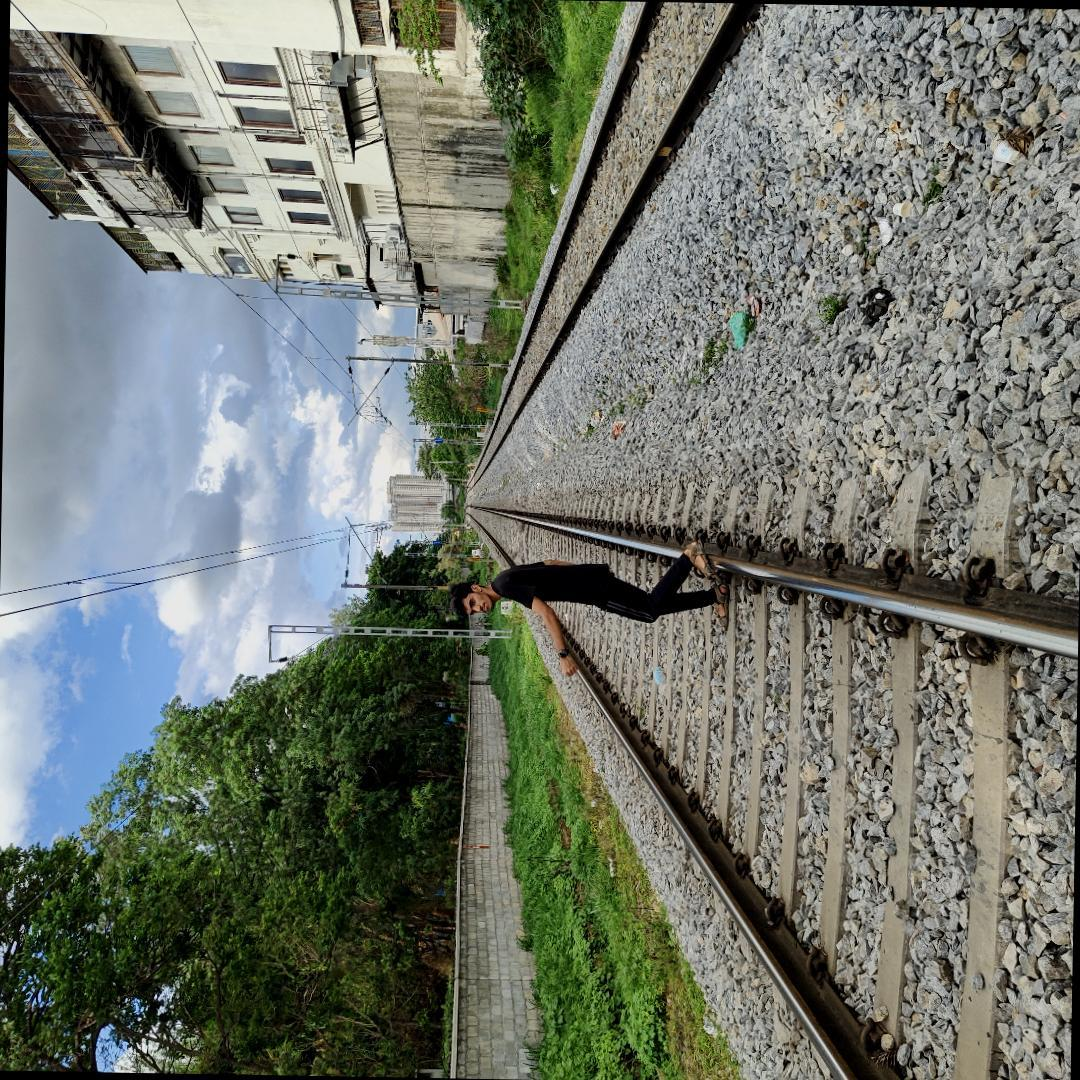standing: (454, 536, 734, 646)
